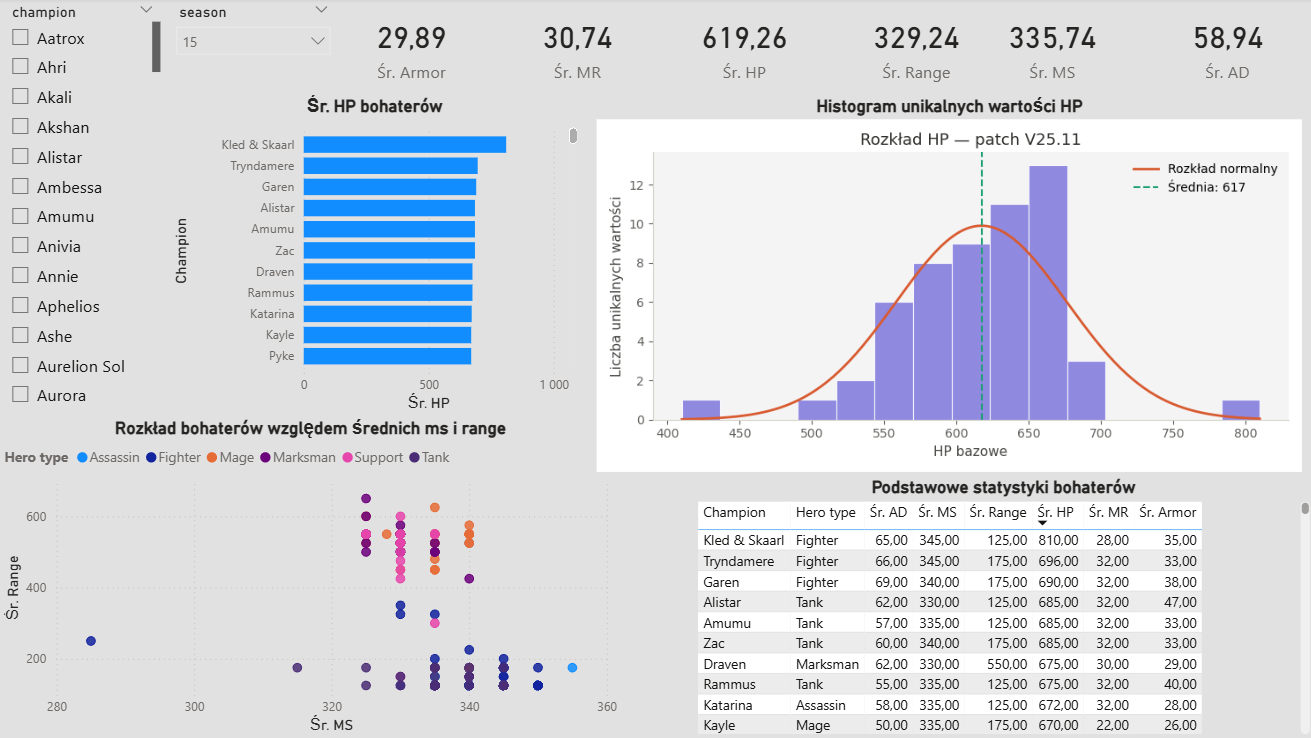

The dashboard page shown, as its layout file describes it:
{"tool":"powerbi","page":{"name":"Porównanie podstawowych statystyk","canvas":[1280,720],"ordinal":1},"visuals":[{"type":"slicer","fields":{"Values":["v_champion_stats.season"]},"box":[162.9,0,170.3,94.1],"z":0},{"type":"slicer","fields":{"Values":["v_champion_stats.champion"]},"box":[0,0,162.4,407.5],"z":1000},{"type":"card","fields":{"Values":["_Miary.Śr. Armor"]},"box":[316.3,0,170.3,94.1],"z":2000},{"type":"card","fields":{"Values":["_Miary.Śr. DMG"]},"box":[1109.7,0,170.3,94.1],"z":3000},{"type":"card","fields":{"Values":["_Miary.Śr. HP"]},"box":[640,0,170.3,94.1],"z":4000},{"type":"card","fields":{"Values":["_Miary.Śr. MR"]},"box":[477.1,0,170.3,94.1],"z":5000},{"type":"card","fields":{"Values":["_Miary.Śr. MS"]},"box":[939.4,0,170.3,94.1],"z":6000},{"type":"card","fields":{"Values":["_Miary.Śr. Range"]},"box":[807.1,0,170.3,94.1],"z":7000},{"type":"clusteredBarChart","title":"Śr. HP bohaterów","fields":{"Category":["v_champion_stats.champion"],"Y":["_Miary.Śr. HP"]},"box":[163.4,94.6,404.1,312.7],"z":8000},{"type":"scatterChart","title":"Rozkład bohaterów względem średnich ms i range","fields":{"Y":["Avg(v_champion_stats.range)"],"X":["Avg(v_champion_stats.ms)"],"Category":["v_champion_stats.champion"],"Series":["v_champion_stats.hero_type"]},"box":[0,407.3,606.1,313.1],"z":10000},{"type":"tableEx","title":"Podstawowe statystyki bohaterów","fields":{"Values":["v_champion_stats.champion","v_champion_stats.hero_type","_Miary.Śr. DMG","_Miary.Śr. MS","_Miary.Śr. Range","_Miary.Śr. HP","_Miary.Śr. MR","_Miary.Śr. Armor"]},"box":[673.9,465.5,606.1,254.9],"z":11000},{"type":"pythonVisual","title":"Histogram unikalnych wartości HP","fields":{"Values":["v_champion_stats.hp_base","v_champion_stats.patch_name"]},"box":[567.7,94.3,712.7,371.8],"z":11001}]}

Visuals, with their boxes in screenshot pixels (x1, y1, x2, y2), scaled from the page's 1280x720 canvas onto the 1311x738 screenshot:
slicer - v_champion_stats.season: <bbox>167, 0, 341, 96</bbox>
slicer - v_champion_stats.champion: <bbox>0, 0, 166, 418</bbox>
card - _Miary.Śr. Armor: <bbox>324, 0, 498, 96</bbox>
card - _Miary.Śr. DMG: <bbox>1137, 0, 1310, 96</bbox>
card - _Miary.Śr. HP: <bbox>656, 0, 830, 96</bbox>
card - _Miary.Śr. MR: <bbox>489, 0, 663, 96</bbox>
card - _Miary.Śr. MS: <bbox>962, 0, 1137, 96</bbox>
card - _Miary.Śr. Range: <bbox>827, 0, 1001, 96</bbox>
"Śr. HP bohaterów" clusteredBarChart: <bbox>167, 97, 581, 417</bbox>
"Rozkład bohaterów względem średnich ms i range" scatterChart: <bbox>0, 417, 621, 737</bbox>
"Podstawowe statystyki bohaterów" tableEx: <bbox>690, 477, 1310, 737</bbox>
"Histogram unikalnych wartości HP" pythonVisual: <bbox>581, 97, 1310, 478</bbox>
